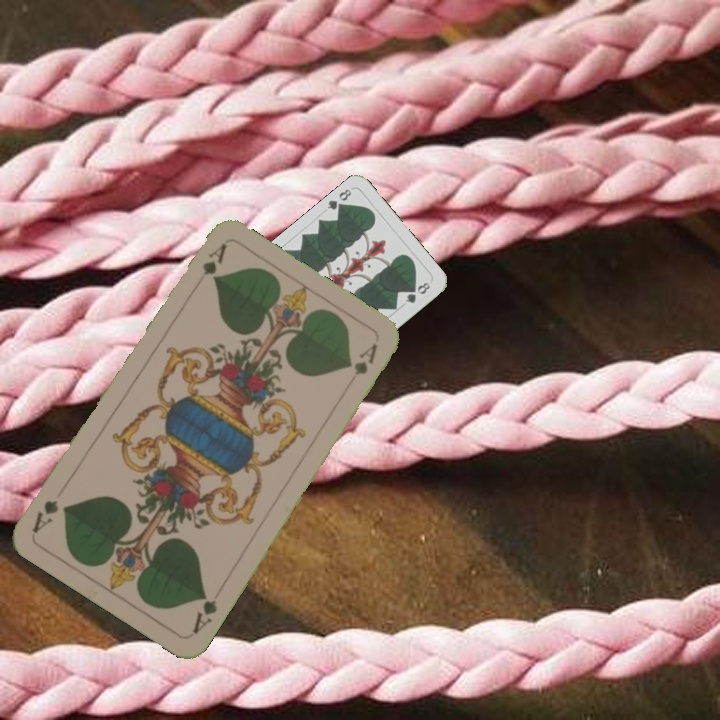G8: (323, 185, 354, 215)
GA: (188, 589, 220, 638), (198, 240, 229, 278)
